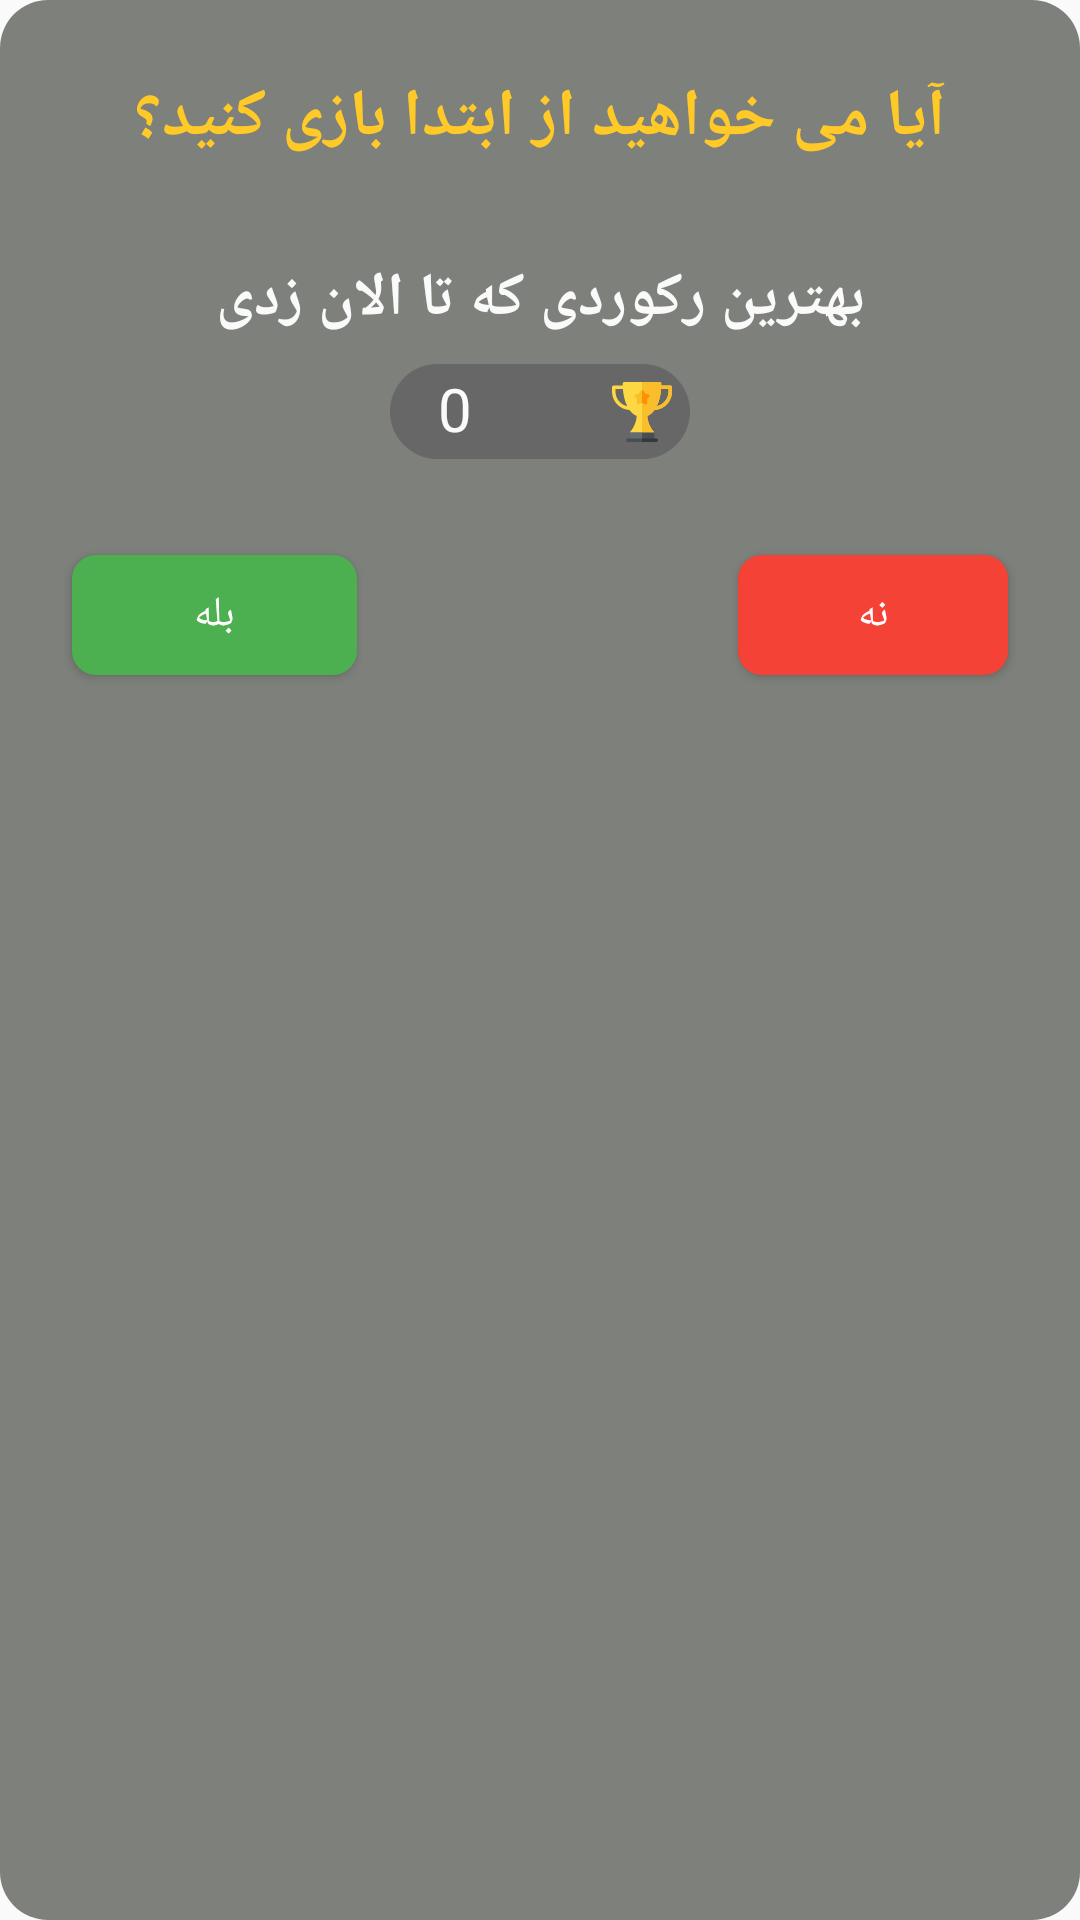

Where icons sit on this 1080px×1920px app screen, as box=[x1, y1, x2, y2]:
cup: box=[612, 382, 672, 442]
